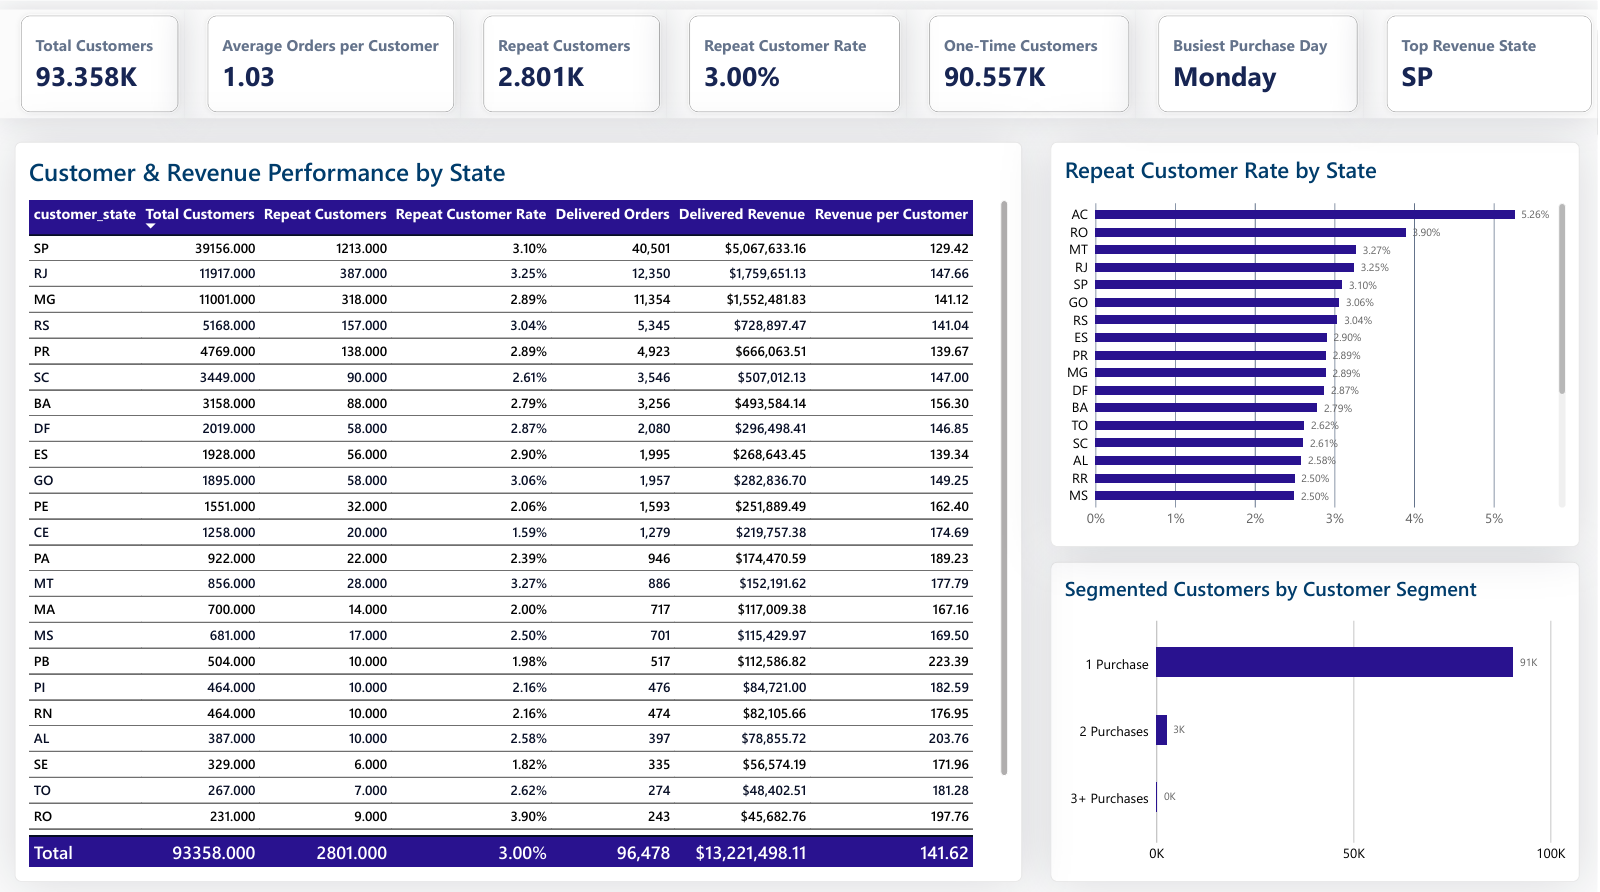

What the dashboard file says about the page in this screenshot:
{"tool":"powerbi","page":{"name":"Customer & Purchase Behavior","canvas":[1920,1080],"ordinal":1},"visuals":[{"type":"cardVisual","fields":{"Data":["analytics order_sales.Total Customers"]},"box":[0,10.2,224.5,130.6],"z":0},{"type":"cardVisual","fields":{"Data":["analytics order_sales.Repeat Customers"]},"box":[555.1,10.2,246.9,130.6],"z":1000},{"type":"cardVisual","fields":{"Data":["analytics order_sales.One-Time Customers"]},"box":[1089.8,10.2,275.5,130.6],"z":2000},{"type":"cardVisual","fields":{"Data":["analytics order_sales.Repeat Customer Rate"]},"box":[802,10.2,287.8,130.6],"z":3000},{"type":"cardVisual","fields":{"Data":["analytics order_sales.Average Orders per Customer"]},"box":[224.5,10.2,330.6,130.6],"z":4000},{"type":"clusteredBarChart","fields":{"Category":["Customer Purchase Summary.Customer Segment"],"Y":["Customer Purchase Summary.Segmented Customers"]},"box":[1263.3,673.5,634.7,383.7],"z":5000},{"type":"tableEx","title":"Customer & Revenue Performance by State","fields":{"Values":["staging customers.customer_state","analytics order_sales.Total Customers","analytics order_sales.Repeat Customers","analytics order_sales.Repeat Customer Rate","analytics order_sales.Delivered Orders","analytics order_sales.Delivered Revenue","analytics order_sales.Revenue per Customer"]},"box":[20.4,169.4,1208.2,887.8],"z":6000},{"type":"clusteredBarChart","title":"Repeat Customer Rate by State","fields":{"Category":["staging customers.customer_state"],"Y":["analytics order_sales.Repeat Customer Rate"]},"box":[1263.3,169.4,634.7,485.7],"z":7000},{"type":"cardVisual","fields":{"Data":["analytics order_sales.Busiest Purchase Day"]},"box":[1365.3,10.2,273.5,130.6],"z":9000},{"type":"cardVisual","fields":{"Data":["analytics order_sales.Top Revenue State"]},"box":[1638.8,10.2,281.6,130.6],"z":10000}]}

Visuals, with their boxes in screenshot pixels (x1, y1, x2, y2), scaled from the page's 1920x1080 canvas onto the 1600x892 screenshot:
cardVisual - analytics order_sales.Total Customers: l=0, t=8, r=187, b=116
cardVisual - analytics order_sales.Repeat Customers: l=463, t=8, r=668, b=116
cardVisual - analytics order_sales.One-Time Customers: l=908, t=8, r=1138, b=116
cardVisual - analytics order_sales.Repeat Customer Rate: l=668, t=8, r=908, b=116
cardVisual - analytics order_sales.Average Orders per Customer: l=187, t=8, r=463, b=116
clusteredBarChart - Customer Purchase Summary.Customer Segment x Customer Purchase Summary.Segmented Customers: l=1053, t=556, r=1582, b=873
"Customer & Revenue Performance by State" tableEx: l=17, t=140, r=1024, b=873
"Repeat Customer Rate by State" clusteredBarChart: l=1053, t=140, r=1582, b=541
cardVisual - analytics order_sales.Busiest Purchase Day: l=1138, t=8, r=1366, b=116
cardVisual - analytics order_sales.Top Revenue State: l=1366, t=8, r=1599, b=116
